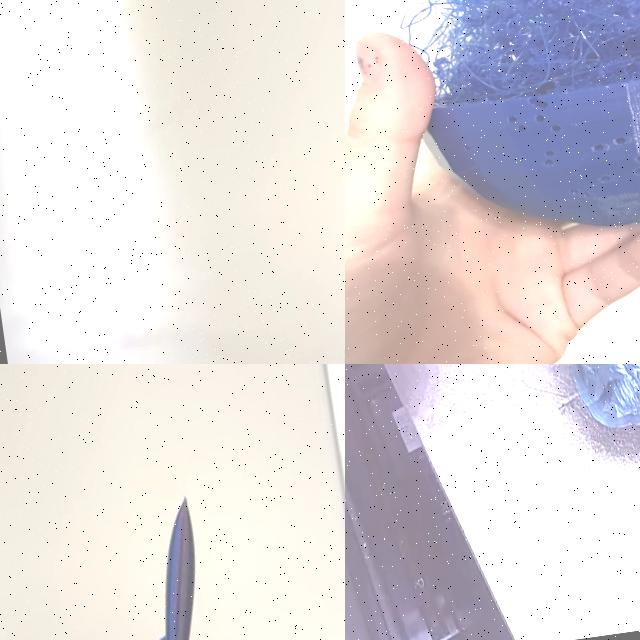spaghetti: (345, 0, 640, 131)
